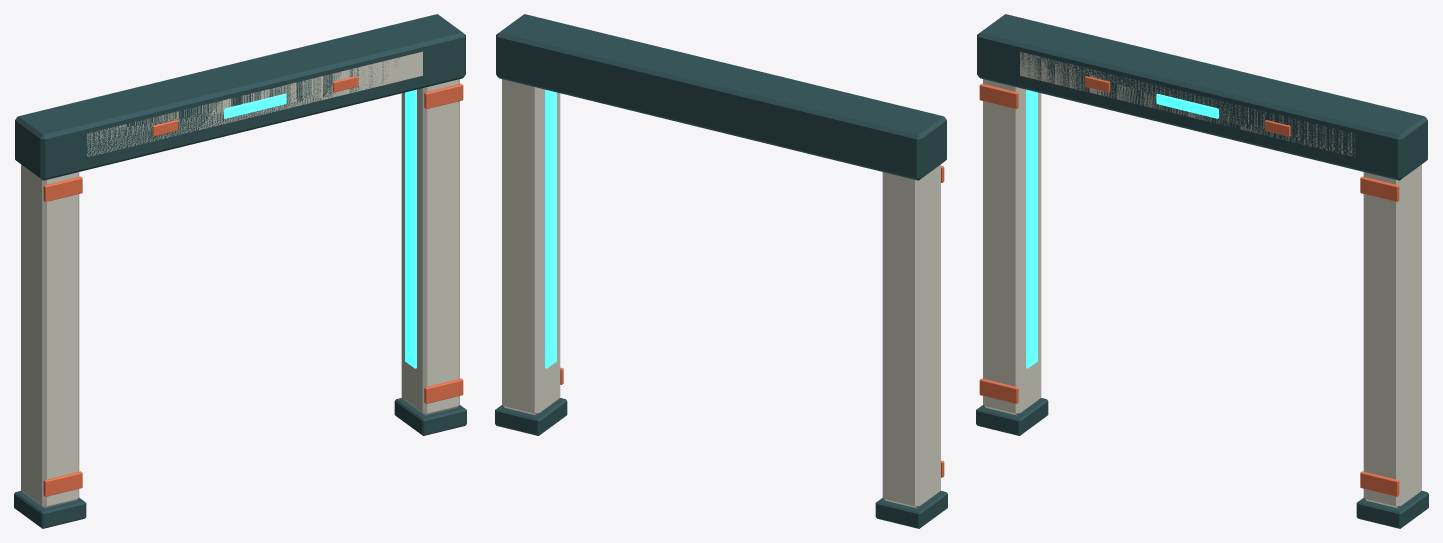
The model's file is energy_gate.glb.
3 renders of one model, left to right at view 1: azimuth 30°, elevation 25°; view 2: azimuth 150°, elevation 25°; view 3: azimuth 330°, elevation 25°, orthographic.
Visible parts, largest first — view 1: energy_gate; view 2: energy_gate; view 3: energy_gate.
Boxes of the visible parts, x1,y1,x2,y2 form: energy_gate: [14, 14, 466, 528]; energy_gate: [495, 14, 947, 528]; energy_gate: [976, 14, 1428, 528].
Bounding box in the file's own units: 3.4 × 3 × 0.415.
